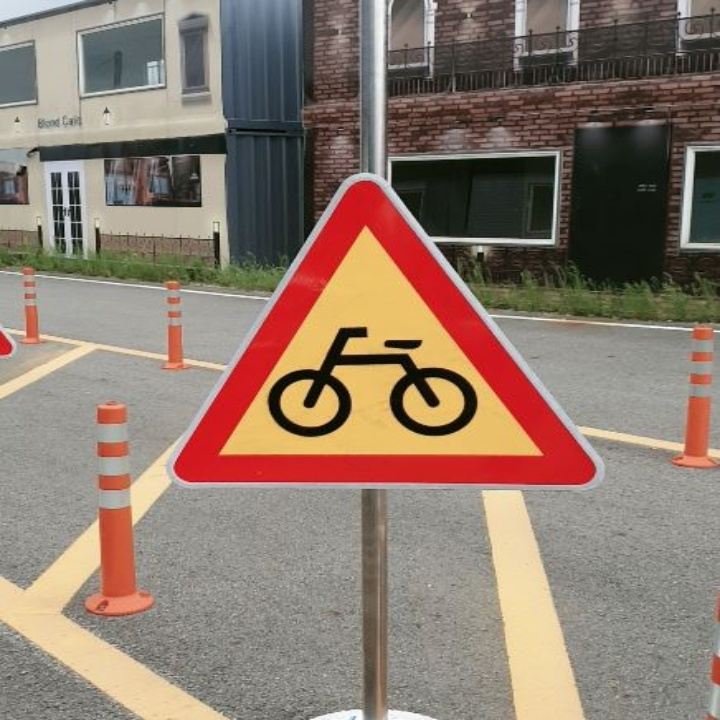bicycle: (260, 319, 486, 446)
